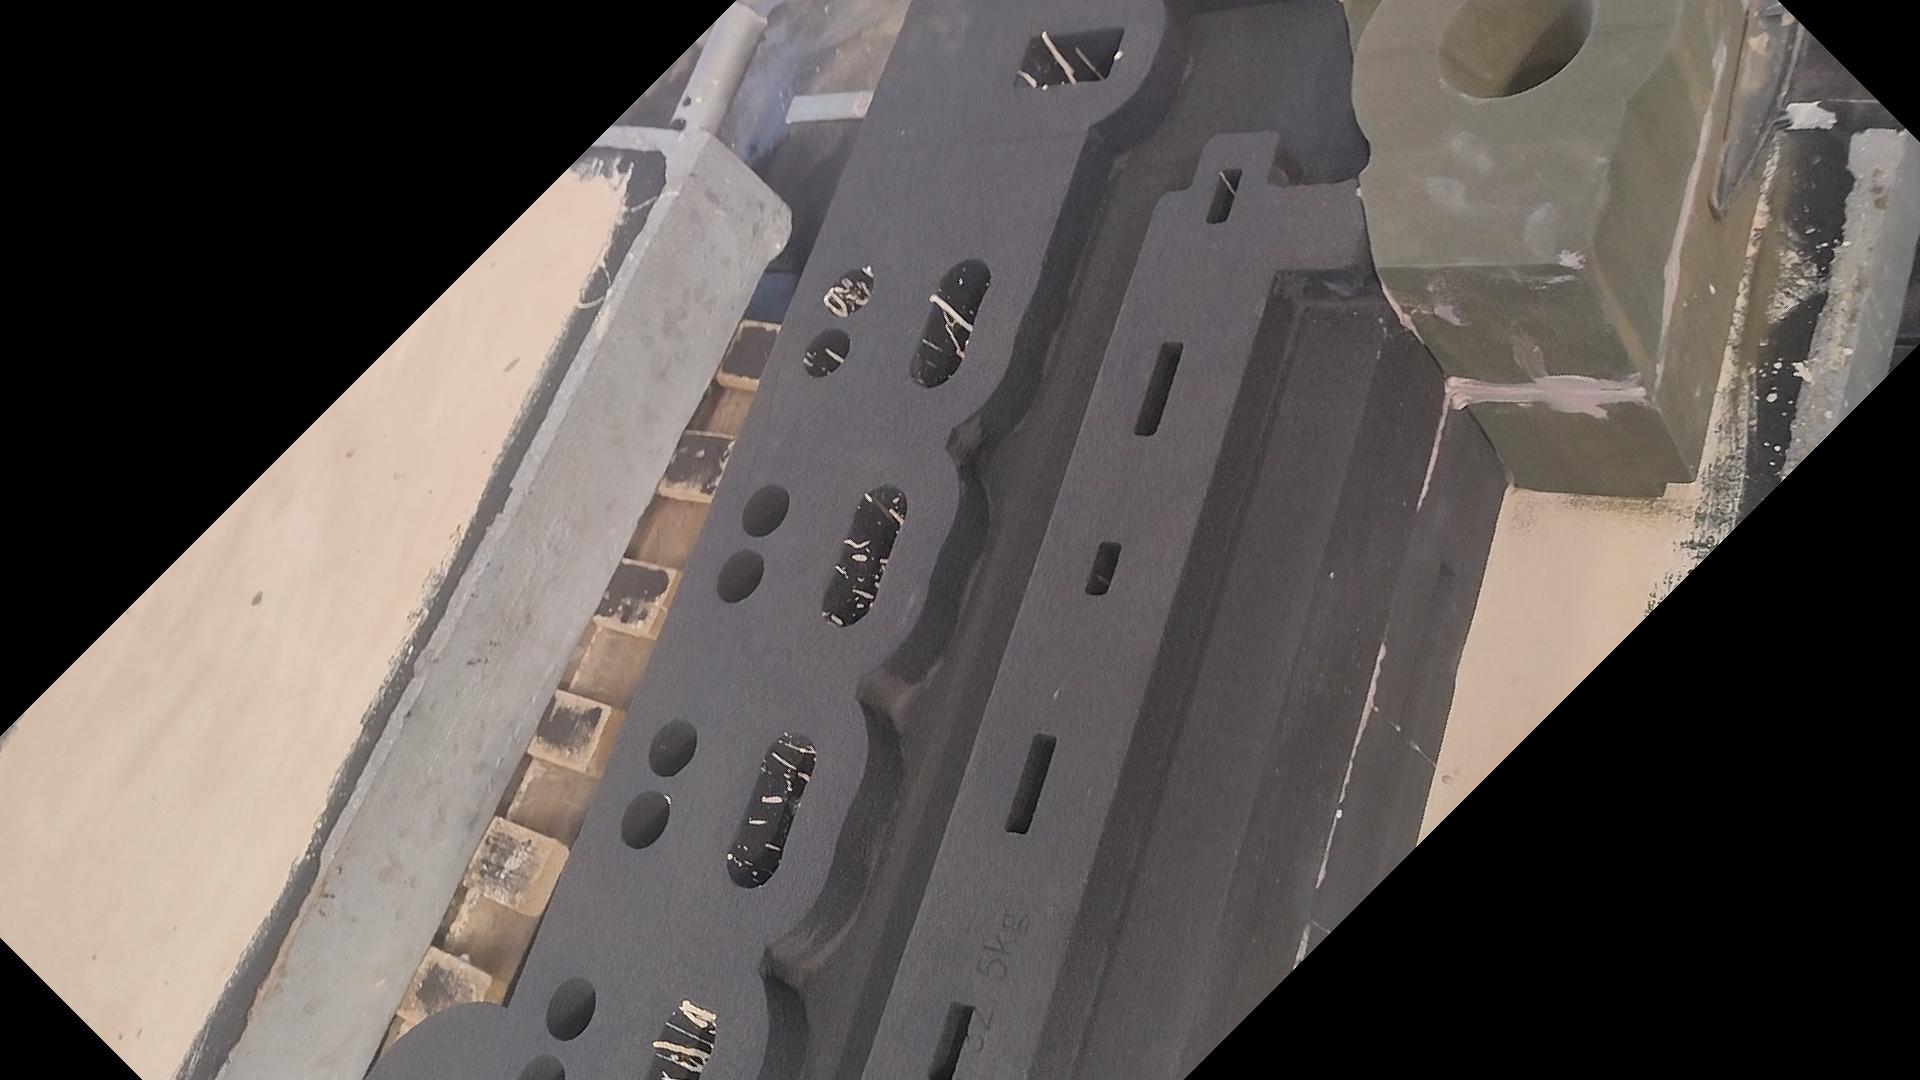pouring hole: (1433, 1, 1594, 99)
